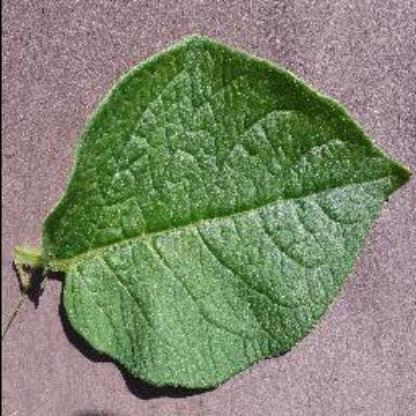Healthy-plant: (31, 24, 411, 400)
